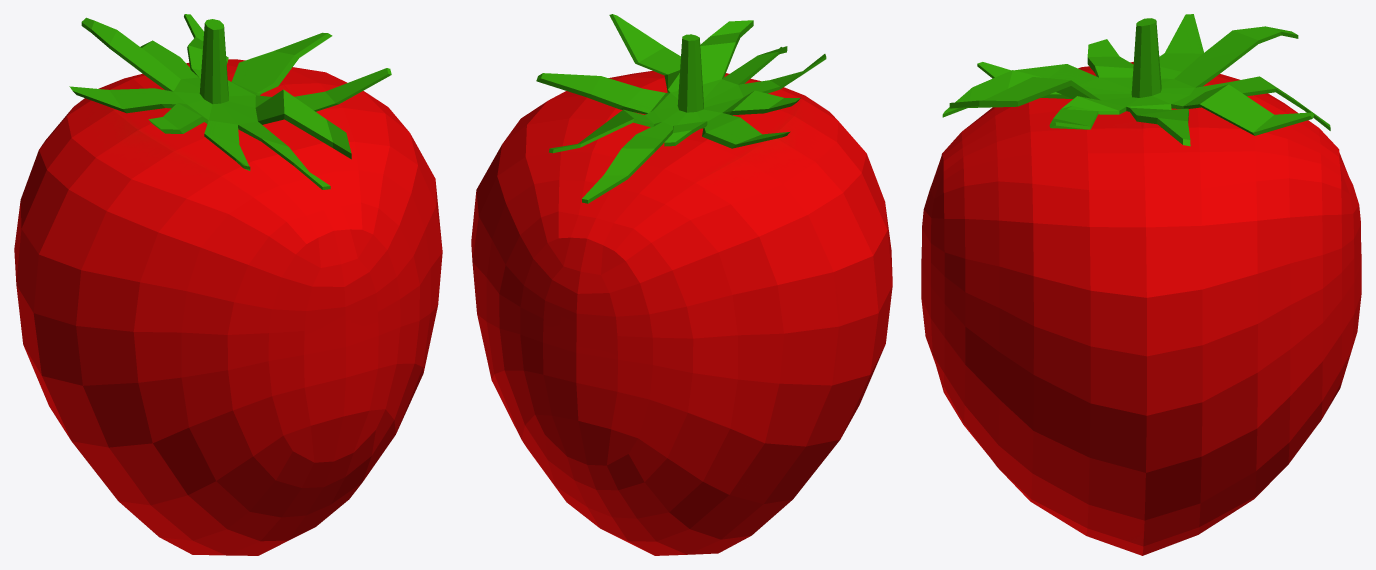
The model's file is StrawberryModel.fbx.
3 views of the same model, side by side, from view 1: azimuth 30°, elevation 25°; view 2: azimuth 150°, elevation 25°; view 3: azimuth 270°, elevation 25° (orthographic). The views are drawn at different scales.
Visible parts, largest first — view 1: Calyx; view 2: Calyx; view 3: Calyx.
Part boxes in pixels (x1,y1,x2,y2): Calyx: (14, 14, 442, 555); Calyx: (471, 14, 892, 555); Calyx: (921, 14, 1361, 555).
Size of the model in its own units: 189 by 242 by 187.
